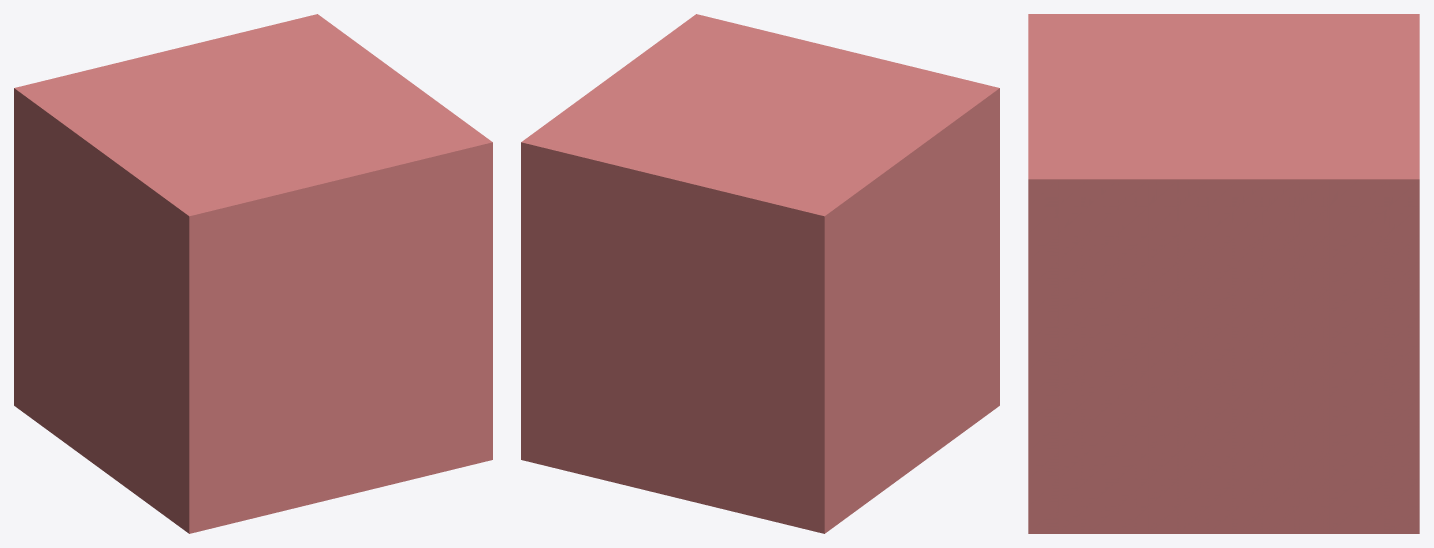
Rendered from sm_test_poly_budget.gltf.
3 renders of one model, left to right at view 1: azimuth 30°, elevation 25°; view 2: azimuth 150°, elevation 25°; view 3: azimuth 270°, elevation 25°, orthographic. The views are drawn at different scales.
Parts seen in each view (by area): view 1: blob; view 2: blob; view 3: blob.
Boxes of the visible parts, box(x1,y1,x2,y2) form: blob: box(14, 14, 492, 533); blob: box(521, 14, 999, 533); blob: box(1028, 14, 1419, 533).
Size of the model in its own units: 1 by 1 by 1.
